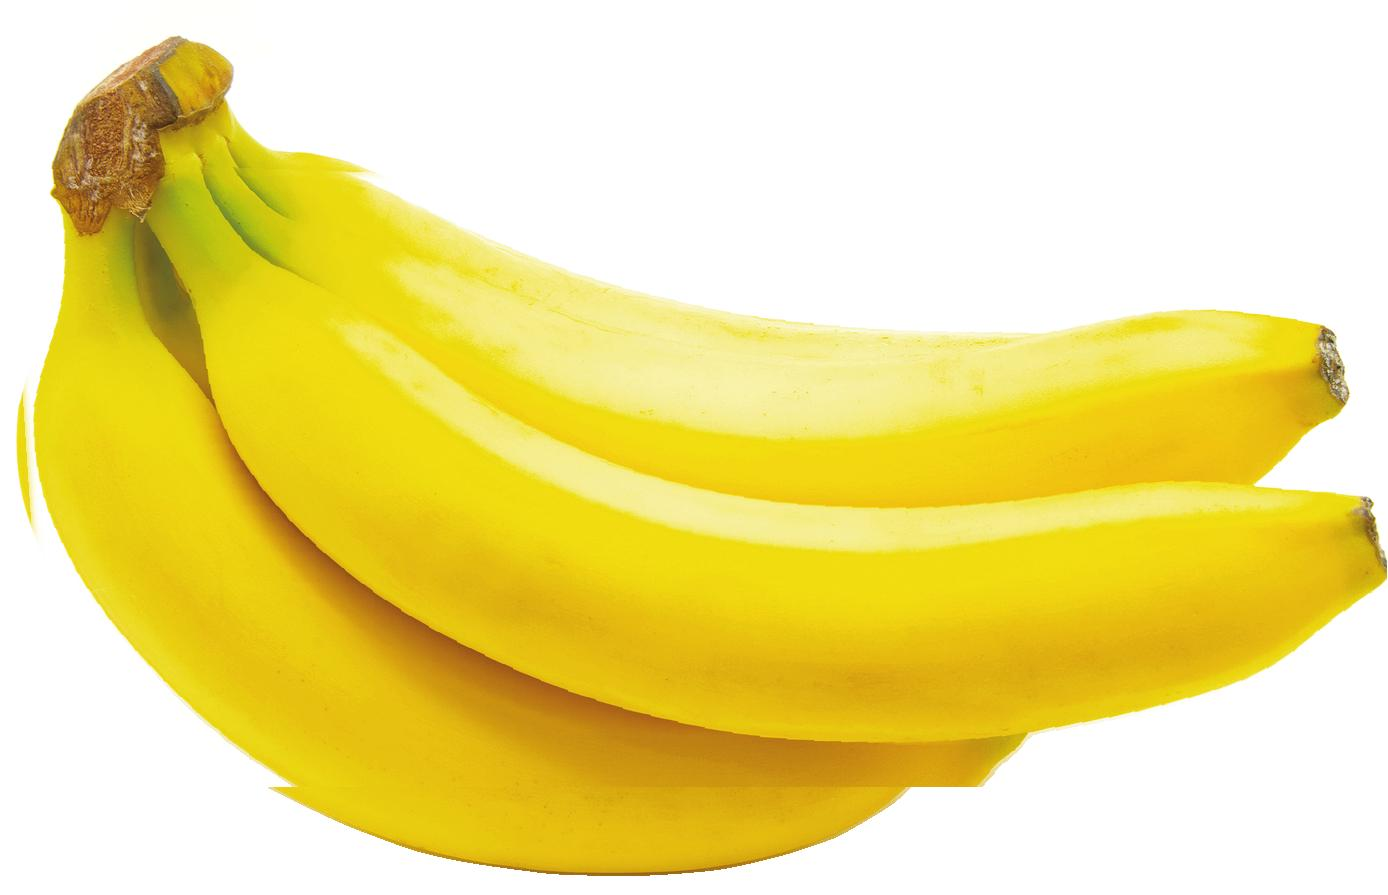Banana Fresh: (8, 160, 1388, 788)
